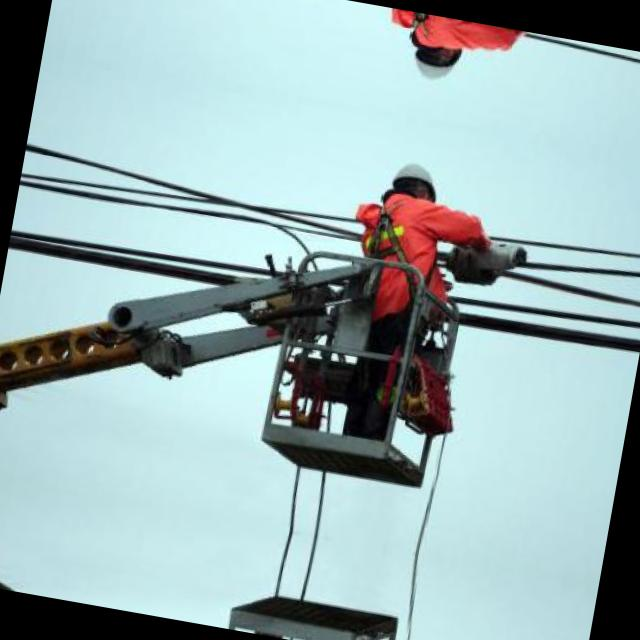helmet: (403, 20, 468, 90), (380, 152, 444, 222)
